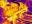Hotspot: (4, 8, 22, 18), (8, 18, 24, 23), (0, 0, 8, 8), (10, 4, 25, 8)
